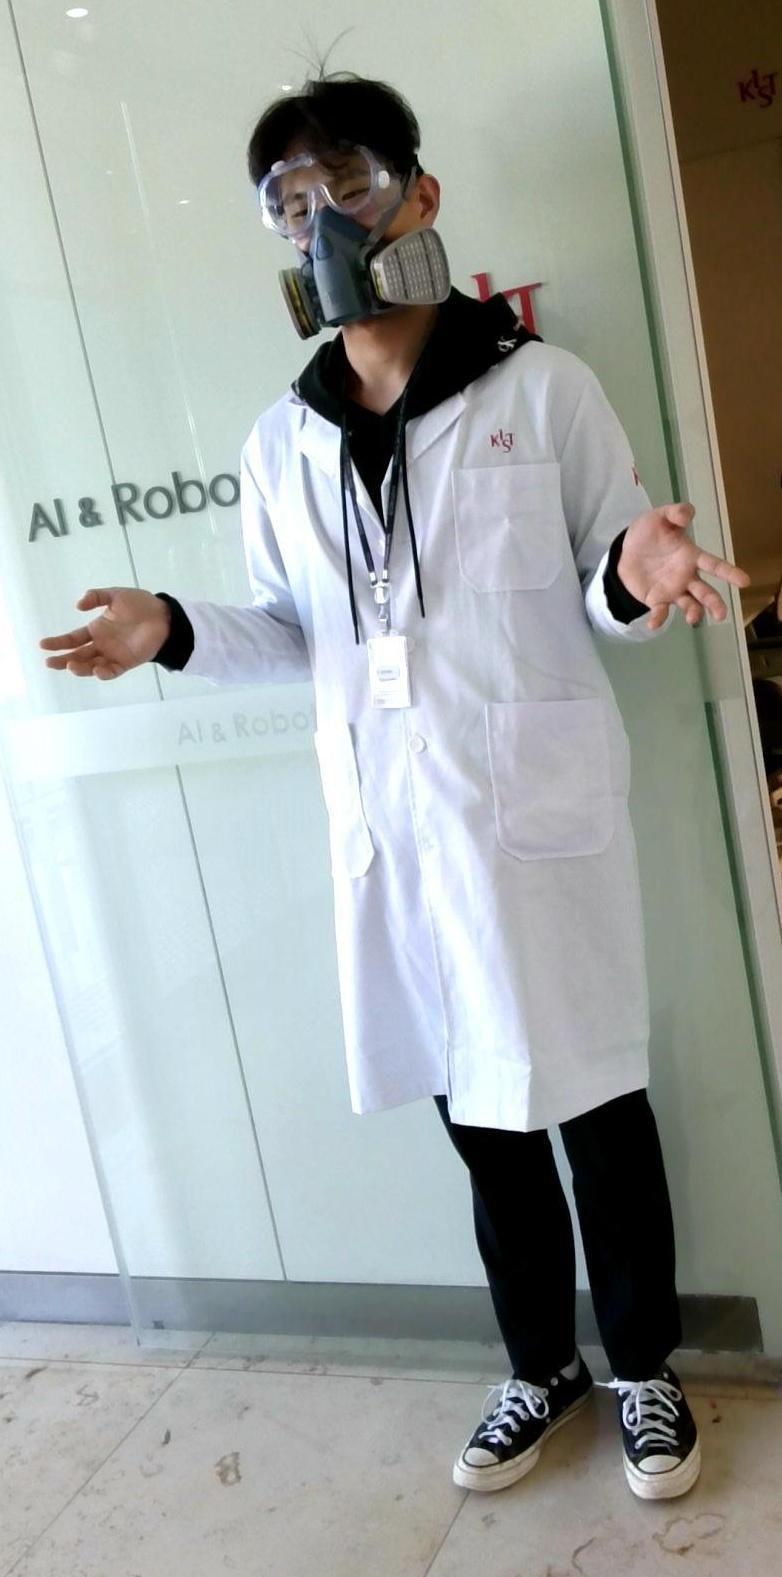lab_coat: (253, 374, 607, 1099)
